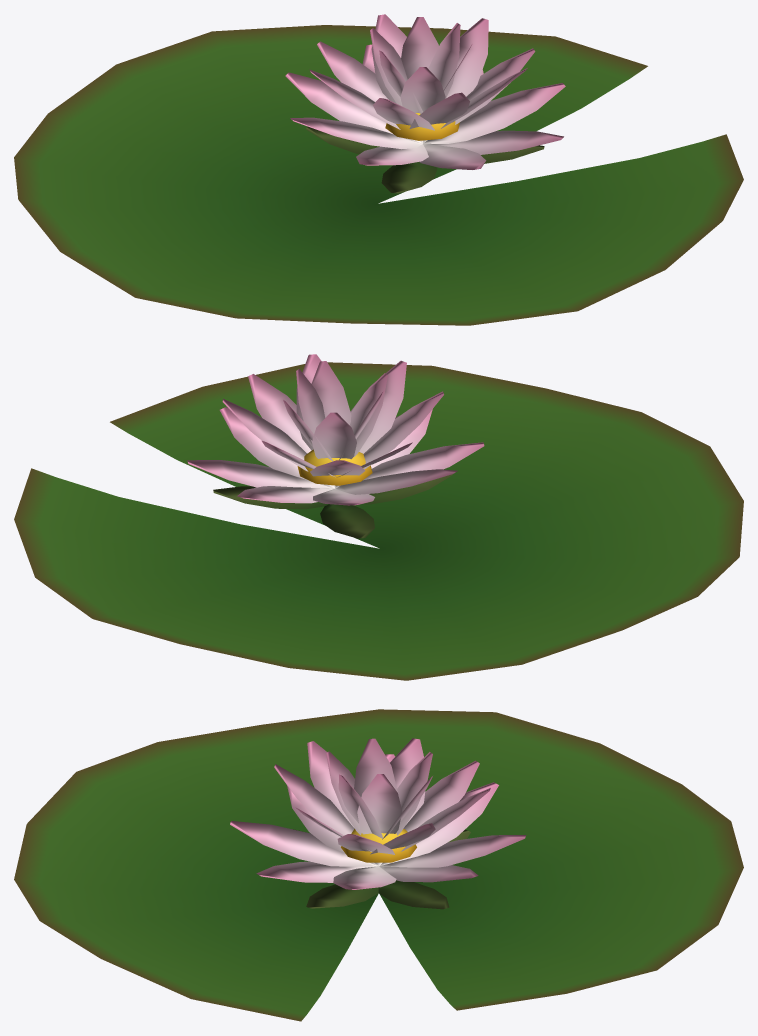
Rendered from lily-flower.glb.
3 views of the same model, one above another, from view 1: azimuth 30°, elevation 25°; view 2: azimuth 150°, elevation 25°; view 3: azimuth 270°, elevation 25° (orthographic).
Visible parts, largest first — view 1: Lily_Flower; view 2: Lily_Flower; view 3: Lily_Flower.
Part boxes in pixels (x1,y1,x2,y2): Lily_Flower: [14, 14, 743, 325]; Lily_Flower: [14, 354, 743, 680]; Lily_Flower: [14, 709, 743, 1021].
Size of the model in its own units: 0.4152 by 0.1008 by 0.4194.
